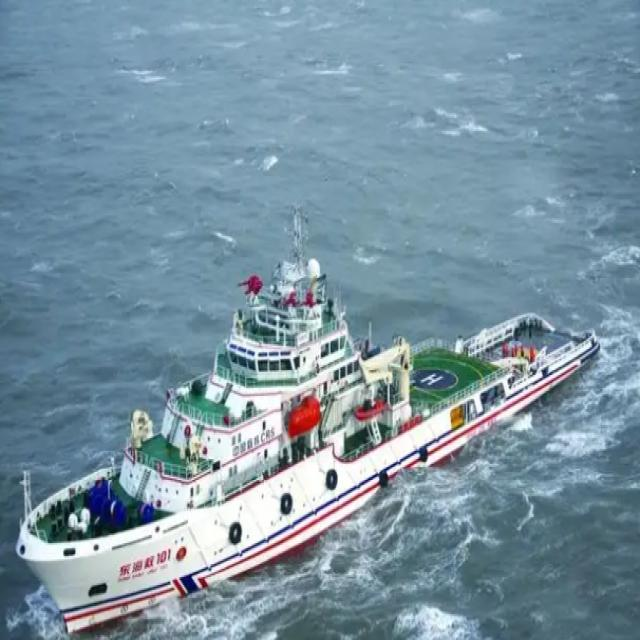navalvessels: (8, 228, 601, 640)
